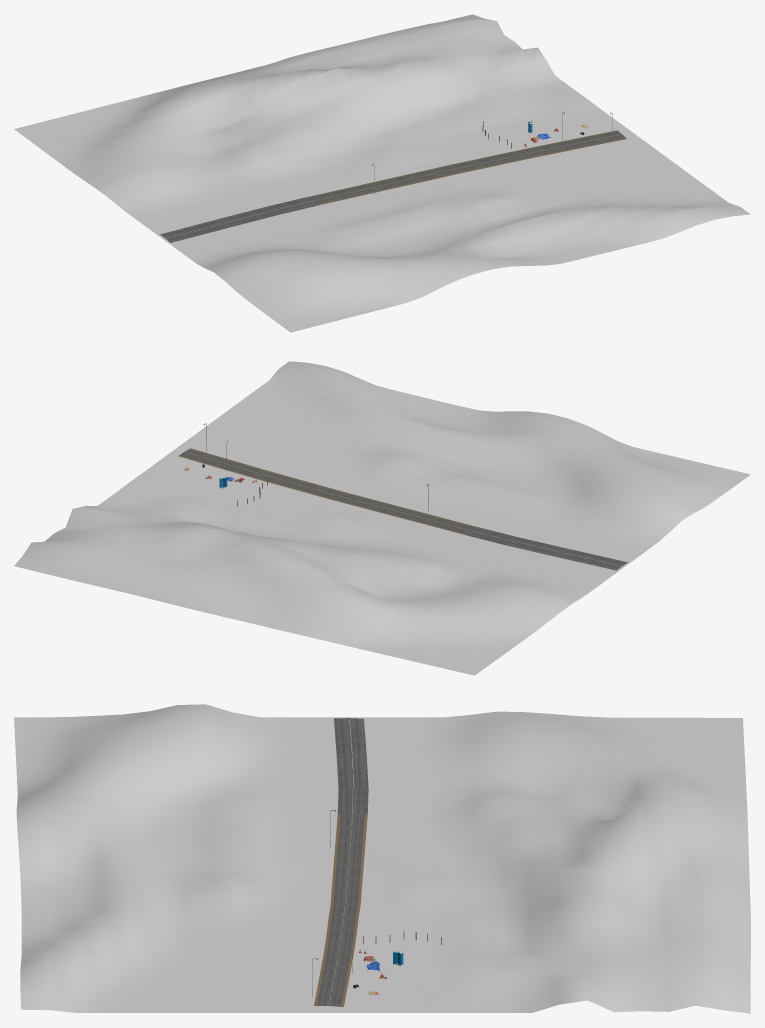
The model's file is Quatar_desert.fbx.
3 renders of one model, top to bottom at view 1: azimuth 30°, elevation 25°; view 2: azimuth 150°, elevation 25°; view 3: azimuth 270°, elevation 25°, orthographic. The views are drawn at different scales.
Visible parts, largest first — view 1: Plane; view 2: Plane; view 3: Plane.
Part boxes in pixels (bbox=[...]): Plane: bbox=[14, 14, 750, 332]; Plane: bbox=[14, 361, 750, 675]; Plane: bbox=[14, 704, 750, 1013].
Size of the model in its own units: 15013 by 940 by 15529.
